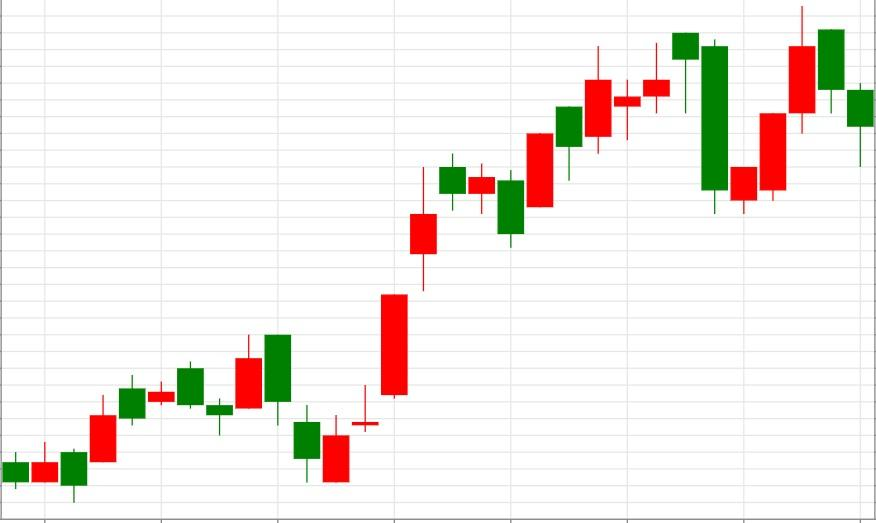three_white_soldiers_rise: (264, 293, 409, 482)
